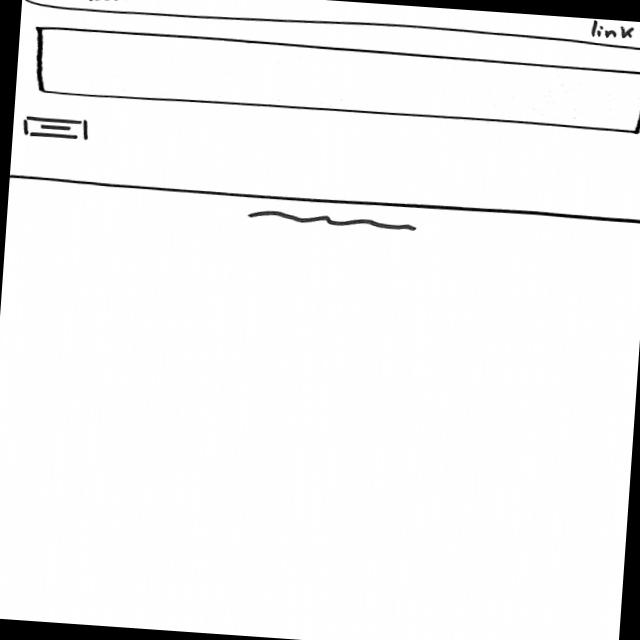container: (33, 27, 640, 135), (22, 1, 640, 52)
icon-button: (21, 116, 92, 144)
label: (588, 19, 640, 42), (41, 1, 144, 7)
text: (246, 208, 424, 237)
